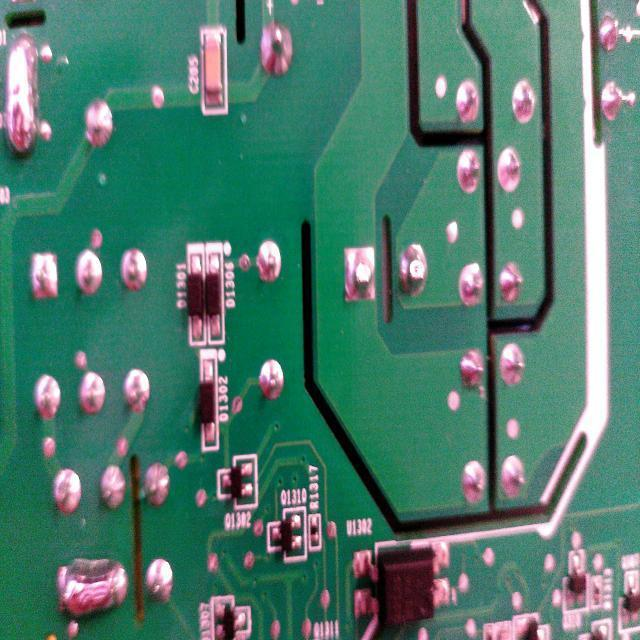Soldering shorted: (0, 28, 44, 162), (54, 549, 130, 623)
